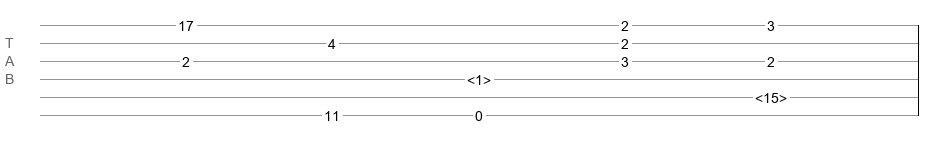0: (475, 108, 483, 118)
11: (324, 108, 340, 118)
17: (178, 18, 194, 28)
2: (182, 54, 190, 64), (621, 18, 629, 28), (621, 36, 629, 46), (767, 54, 775, 64)
3: (621, 54, 629, 64), (767, 18, 775, 28)
4: (328, 36, 336, 46)
harmonic: (755, 90, 787, 100), (467, 72, 491, 82)
